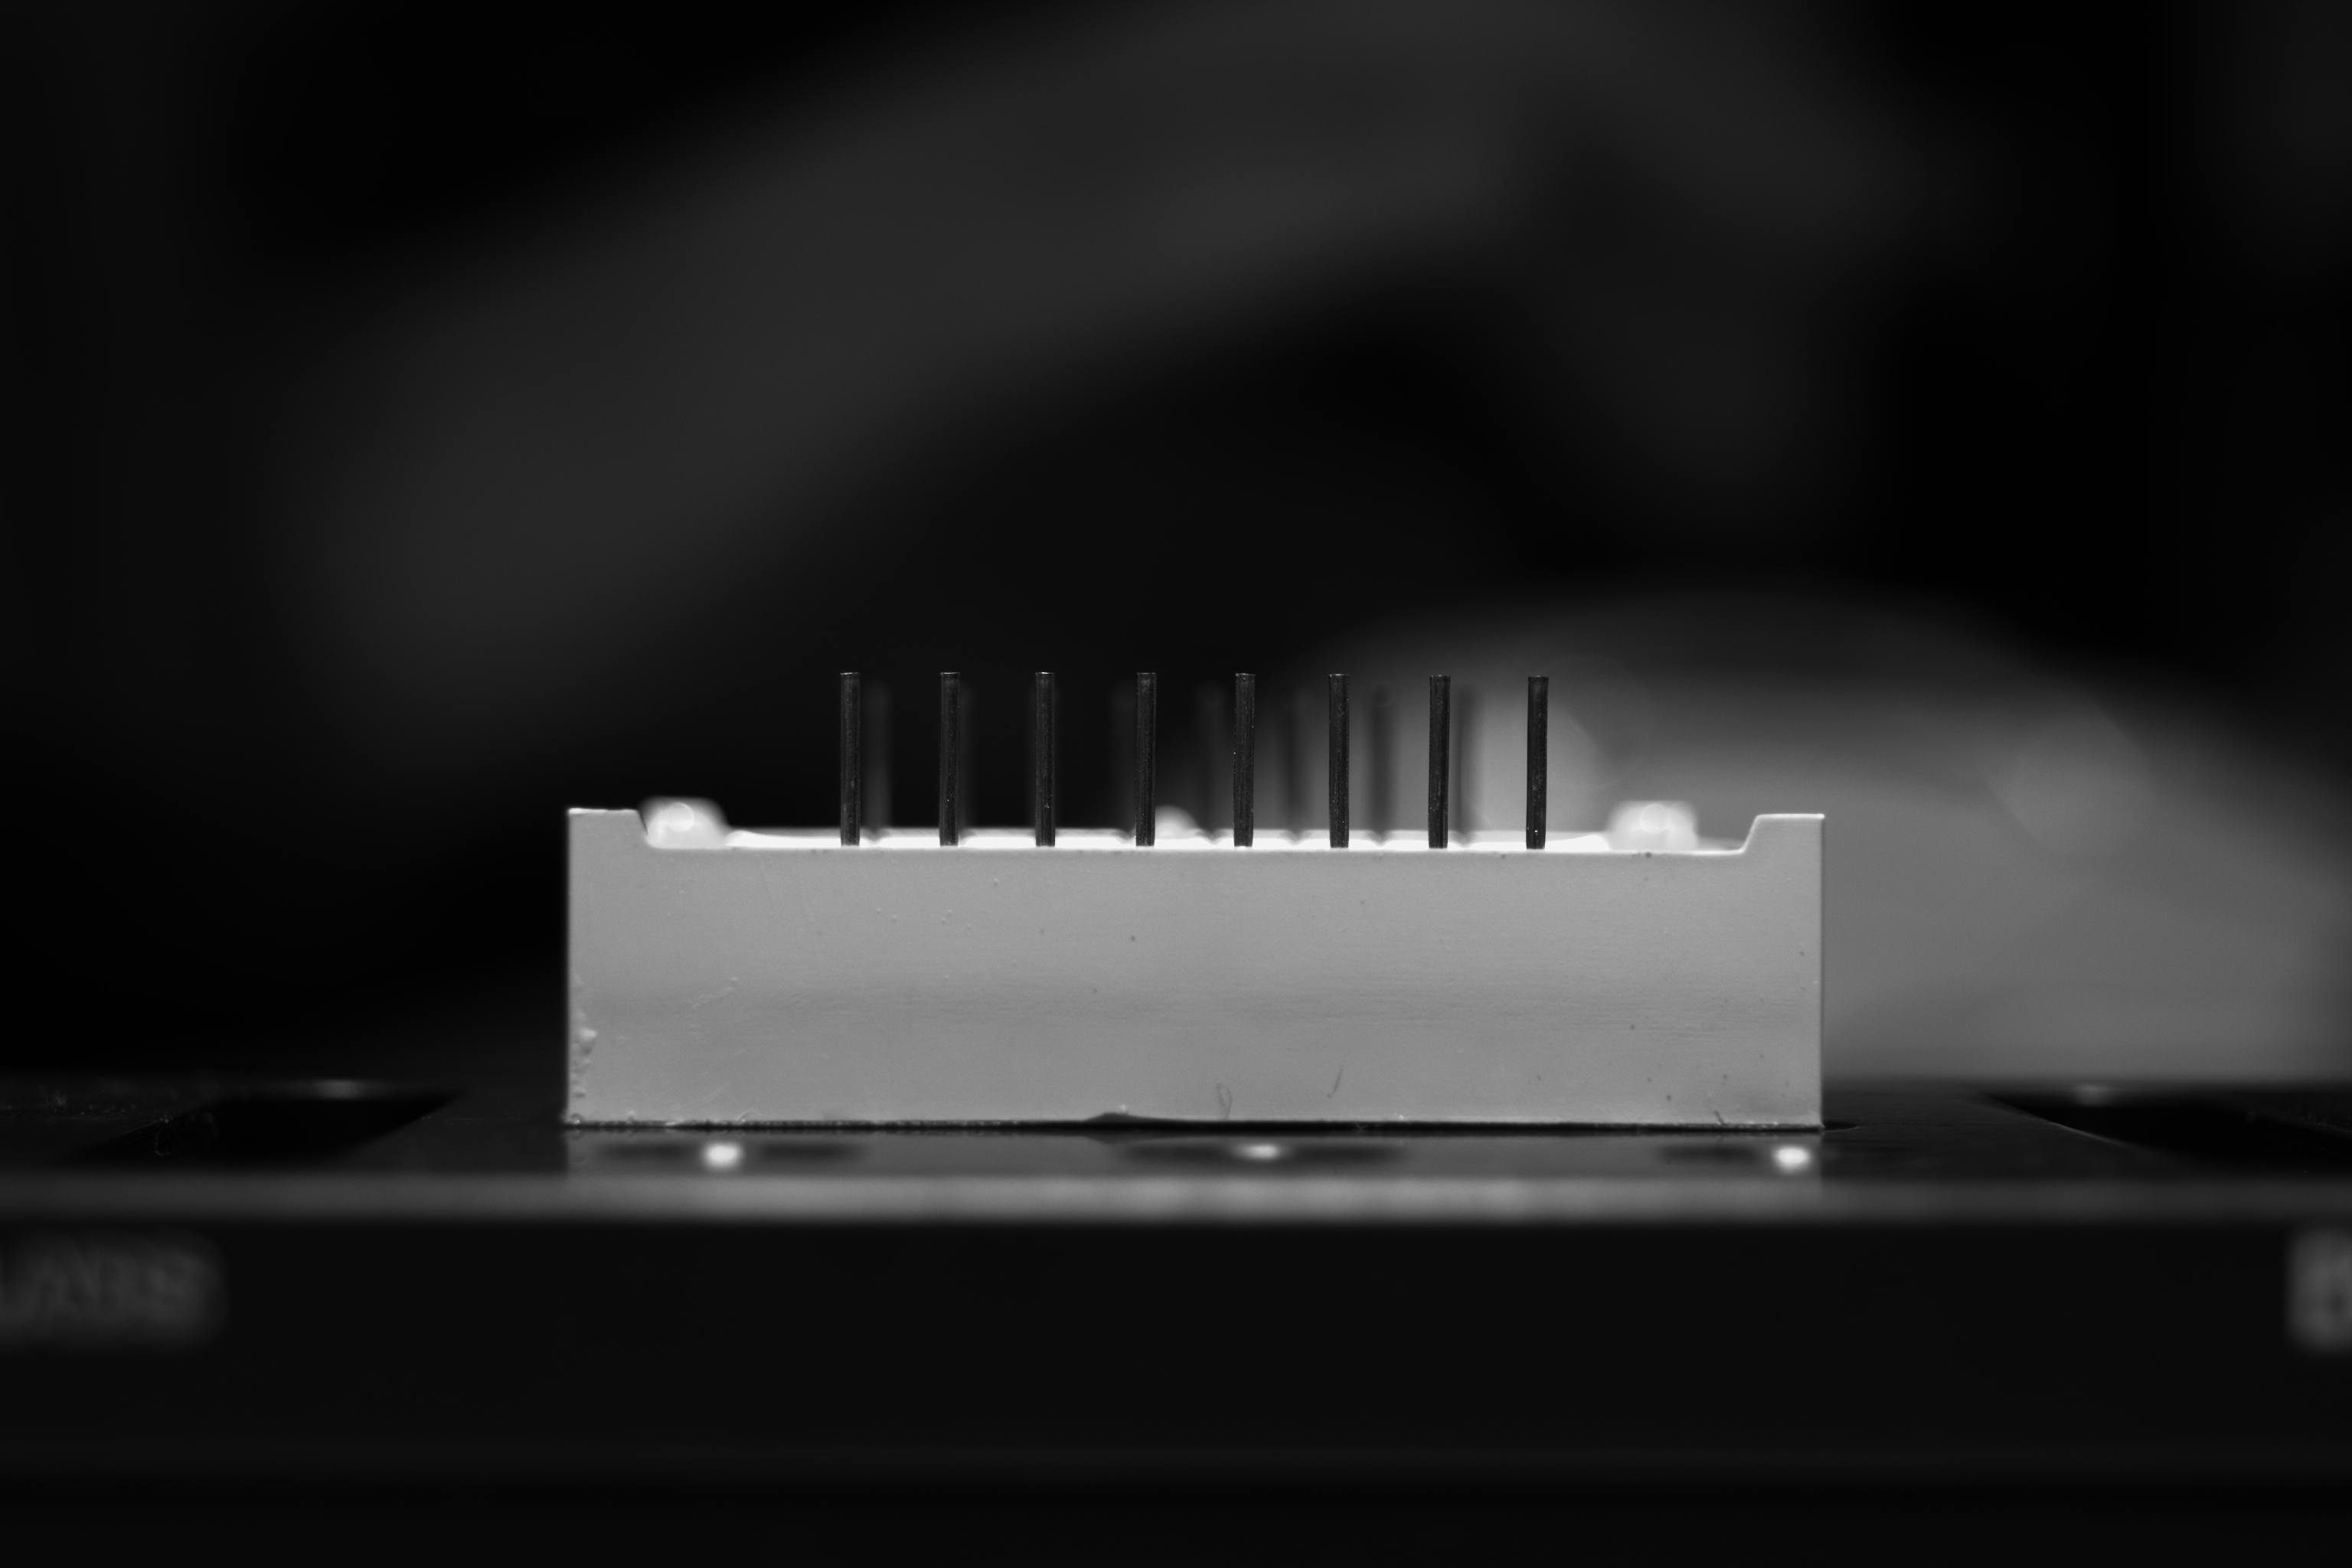Component: (558, 663, 1836, 1134)
